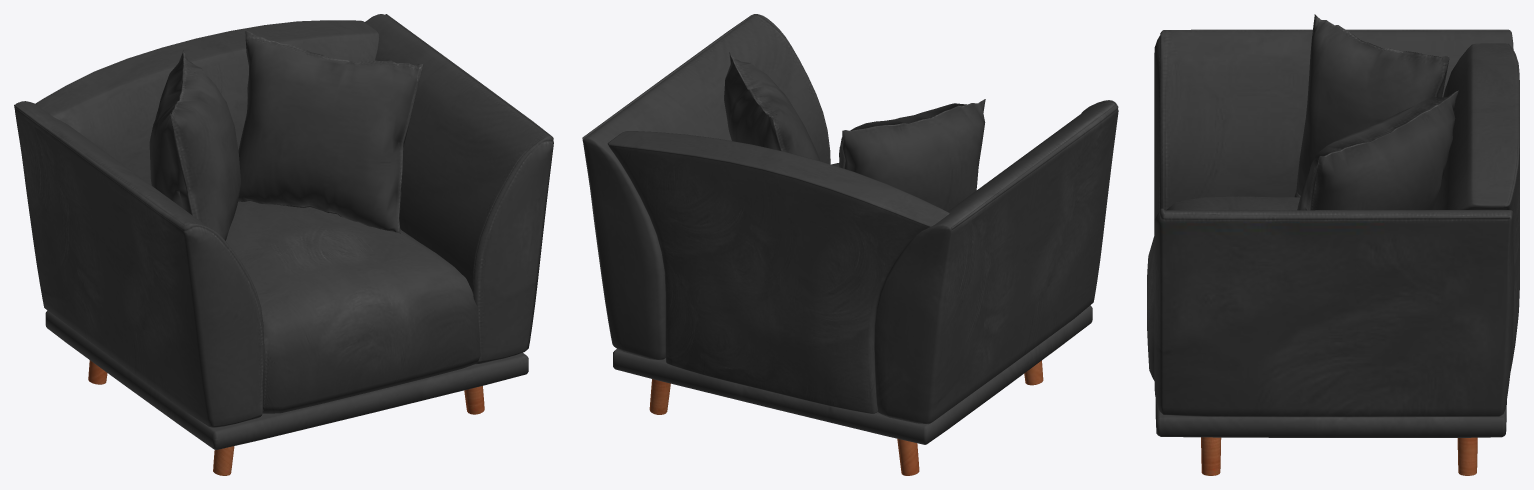
Rendered from grayoneseater.glb.
3 views of the same model, side by side, from view 1: azimuth 30°, elevation 25°; view 2: azimuth 150°, elevation 25°; view 3: azimuth 270°, elevation 25° (orthographic). The views are drawn at different scales.
Parts seen in each view (by area): view 1: oneseater:single_seaterone_seater1; view 2: oneseater:single_seaterone_seater1; view 3: oneseater:single_seaterone_seater1.
Boxes of the visible parts, bbox=[...] form: oneseater:single_seaterone_seater1: bbox=[14, 14, 553, 475]; oneseater:single_seaterone_seater1: bbox=[582, 14, 1118, 475]; oneseater:single_seaterone_seater1: bbox=[1147, 14, 1519, 475].
Bounding box in the file's own units: 1.34 × 1.1 × 1.12.
Materials: 1 (1 with a texture image).
